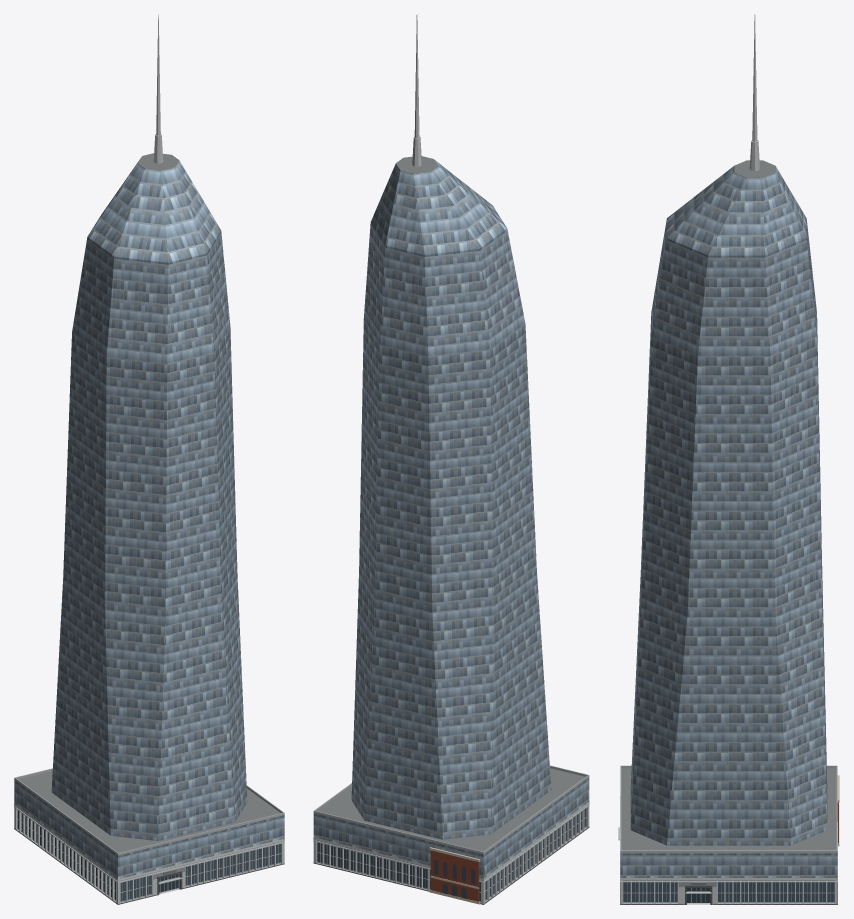
The model's file is bank_of_america_tower.glb.
3 renders of one model, left to right at view 1: azimuth 30°, elevation 25°; view 2: azimuth 150°, elevation 25°; view 3: azimuth 270°, elevation 25°, orthographic. The views are drawn at different scales.
Parts seen in each view (by area): view 1: bank_of_america_tower; view 2: bank_of_america_tower; view 3: bank_of_america_tower.
Part boxes in pixels (x1,y1,x2,y2): bank_of_america_tower: (14, 14, 284, 904); bank_of_america_tower: (313, 14, 589, 904); bank_of_america_tower: (618, 14, 839, 904).
Bounding box in the file's own units: 78.86 × 366 × 85.47.
Materials: 2 (2 with a texture image).
